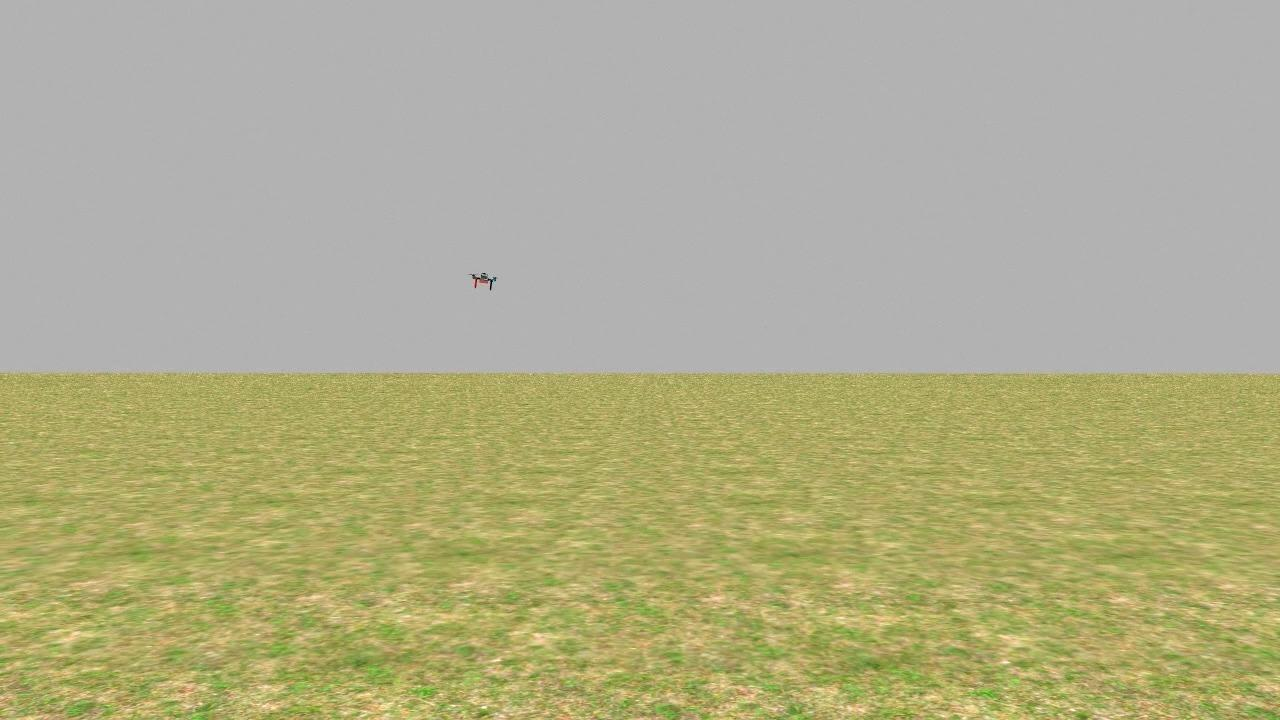UAV: (461, 261, 505, 299)
